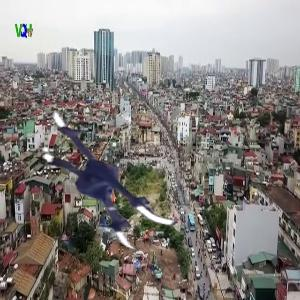drone: (34, 93, 196, 255)
